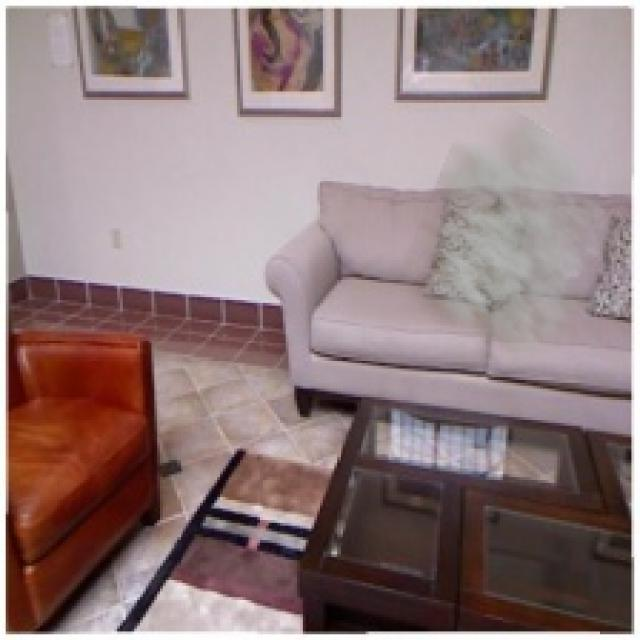smoke: (394, 105, 617, 368)
